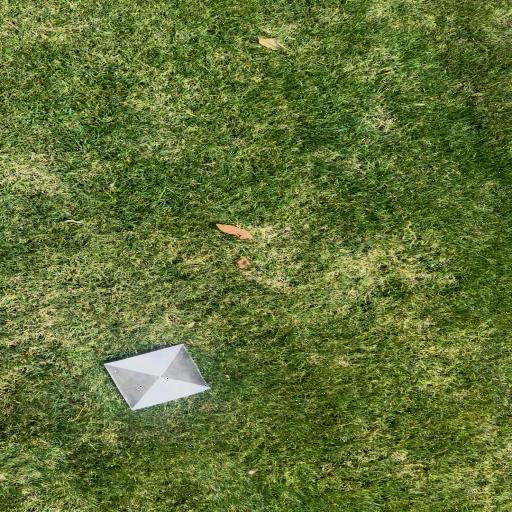target: (103, 344, 211, 409)
